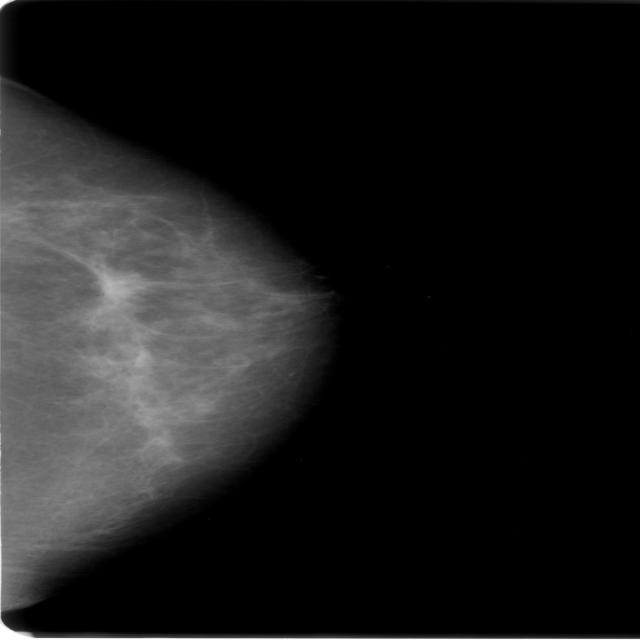normal: (0, 87, 326, 603)
